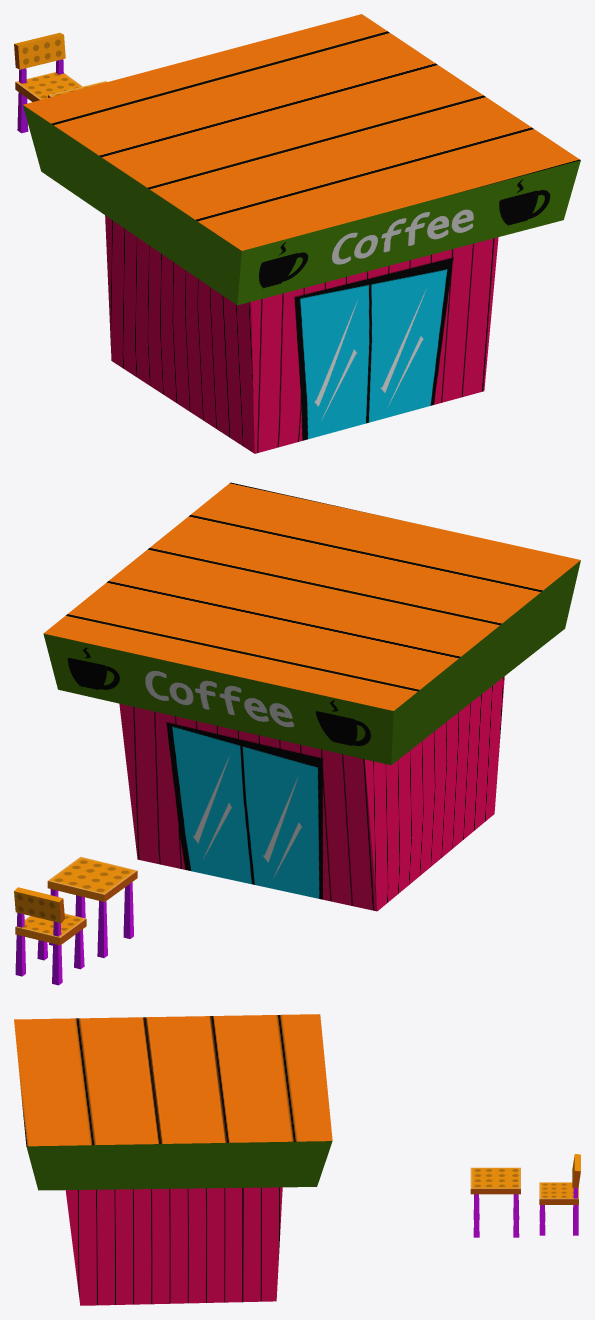
Rendered from Cafe.fbx.
The picture shows the model from 3 angles, top to bottom: view 1: azimuth 30°, elevation 25°; view 2: azimuth 150°, elevation 25°; view 3: azimuth 270°, elevation 25°; orthographic projection. The views are drawn at different scales.
Parts seen in each view (by area): view 1: TODOS:Hospital_Cine_Cafe:polySurface1, TODOS:polySurface16; view 2: TODOS:Hospital_Cine_Cafe:polySurface1, TODOS:polySurface16, TODOS:polySurface15; view 3: TODOS:Hospital_Cine_Cafe:polySurface1, TODOS:polySurface15, TODOS:polySurface16.
Part boxes in pixels (<box>): TODOS:Hospital_Cine_Cafe:polySurface1: <box>23,14,580,453</box>; TODOS:polySurface16: <box>14,32,82,133</box>; TODOS:Hospital_Cine_Cafe:polySurface1: <box>43,482,580,911</box>; TODOS:polySurface16: <box>14,887,86,985</box>; TODOS:polySurface15: <box>47,856,137,957</box>; TODOS:Hospital_Cine_Cafe:polySurface1: <box>14,1014,332,1305</box>; TODOS:polySurface15: <box>470,1167,520,1237</box>; TODOS:polySurface16: <box>539,1154,580,1235</box>.
Size of the model in its own units: 19.93 by 12.76 by 36.11.
